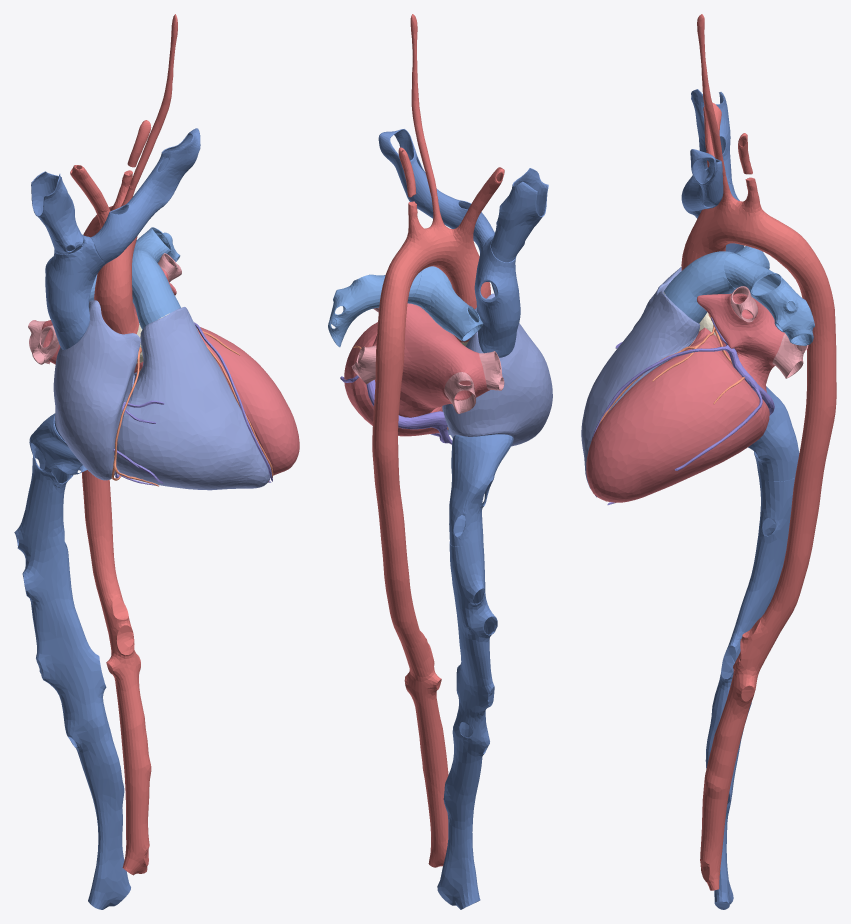
Rendered from heart.glb.
3 renders of one model, left to right at view 1: azimuth 30°, elevation 25°; view 2: azimuth 150°, elevation 25°; view 3: azimuth 270°, elevation 25°, orthographic. The views are drawn at different scales.
Parts seen in each view (by area): view 1: Right ventricle, Inferior vena cava (lower), Descending aorta (lower), Right atrium, Left ventricle, Left brachiocephalic vein, Superior vena cava, Inferior vena cava (upper), Right brachiocephalic vein, Pulmonary trunk, Ascending aorta, Aortic arch (+4 smaller); view 2: Inferior vena cava (lower), Descending aorta (lower), Right atrium, Descending aorta (upper), Left atrium, Inferior vena cava (upper), Aortic arch, Superior vena cava, Right brachiocephalic vein, Left brachiocephalic vein, Left pulmonary artery, Right pulmonary artery (+8 smaller); view 3: Left ventricle, Descending aorta (lower), Descending aorta (upper), Inferior vena cava (lower), Right ventricle, Aortic arch, Left atrium, Left pulmonary artery, Inferior vena cava (upper), Pulmonary trunk, Left brachiocephalic vein, Right brachiocephalic vein (+5 smaller).
Boxes of the visible parts, bbox=[...] form: Right ventricle: bbox=[114, 307, 270, 490]; Inferior vena cava (lower): bbox=[14, 489, 130, 909]; Descending aorta (lower): bbox=[81, 471, 151, 875]; Right atrium: bbox=[53, 300, 140, 480]; Left ventricle: bbox=[134, 327, 299, 475]; Left brachiocephalic vein: bbox=[91, 128, 200, 263]; Superior vena cava: bbox=[45, 234, 106, 349]; Inferior vena cava (upper): bbox=[29, 413, 87, 504]; Right brachiocephalic vein: bbox=[31, 171, 83, 254]; Pulmonary trunk: bbox=[132, 250, 180, 329]; Ascending aorta: bbox=[94, 280, 139, 334]; Aortic arch: bbox=[87, 202, 137, 290]; Inferior vena cava (lower): bbox=[437, 539, 497, 909]; Descending aorta (lower): bbox=[380, 533, 448, 867]; Right atrium: bbox=[442, 293, 552, 446]; Descending aorta (upper): bbox=[372, 291, 407, 539]; Left atrium: bbox=[372, 303, 489, 417]; Inferior vena cava (upper): bbox=[449, 434, 513, 546]; Aortic arch: bbox=[381, 225, 488, 301]; Superior vena cava: bbox=[474, 236, 520, 357]; Right brachiocephalic vein: bbox=[491, 168, 548, 262]; Left brachiocephalic vein: bbox=[378, 129, 494, 252]; Left pulmonary artery: bbox=[328, 271, 421, 347]; Right pulmonary artery: bbox=[430, 281, 483, 341]; Left ventricle: bbox=[586, 327, 769, 502]; Descending aorta (lower): bbox=[700, 502, 819, 890]; Descending aorta (upper): bbox=[789, 247, 836, 508]; Inferior vena cava (lower): bbox=[705, 477, 794, 909]; Right ventricle: bbox=[581, 290, 700, 488]; Aortic arch: bbox=[685, 199, 810, 271]; Left atrium: bbox=[697, 293, 784, 392]; Left pulmonary artery: bbox=[724, 253, 814, 345]; Inferior vena cava (upper): bbox=[748, 386, 799, 481]; Pulmonary trunk: bbox=[664, 251, 741, 323]; Left brachiocephalic vein: bbox=[681, 149, 723, 216]; Right brachiocephalic vein: bbox=[691, 89, 732, 184].
Bounding box in the file's own units: 0.1319 × 0.5142 × 0.1287.
